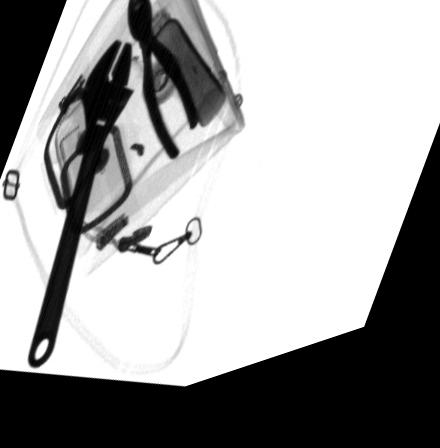Pliers: (128, 0, 198, 171)
Wrench: (28, 42, 137, 370)
